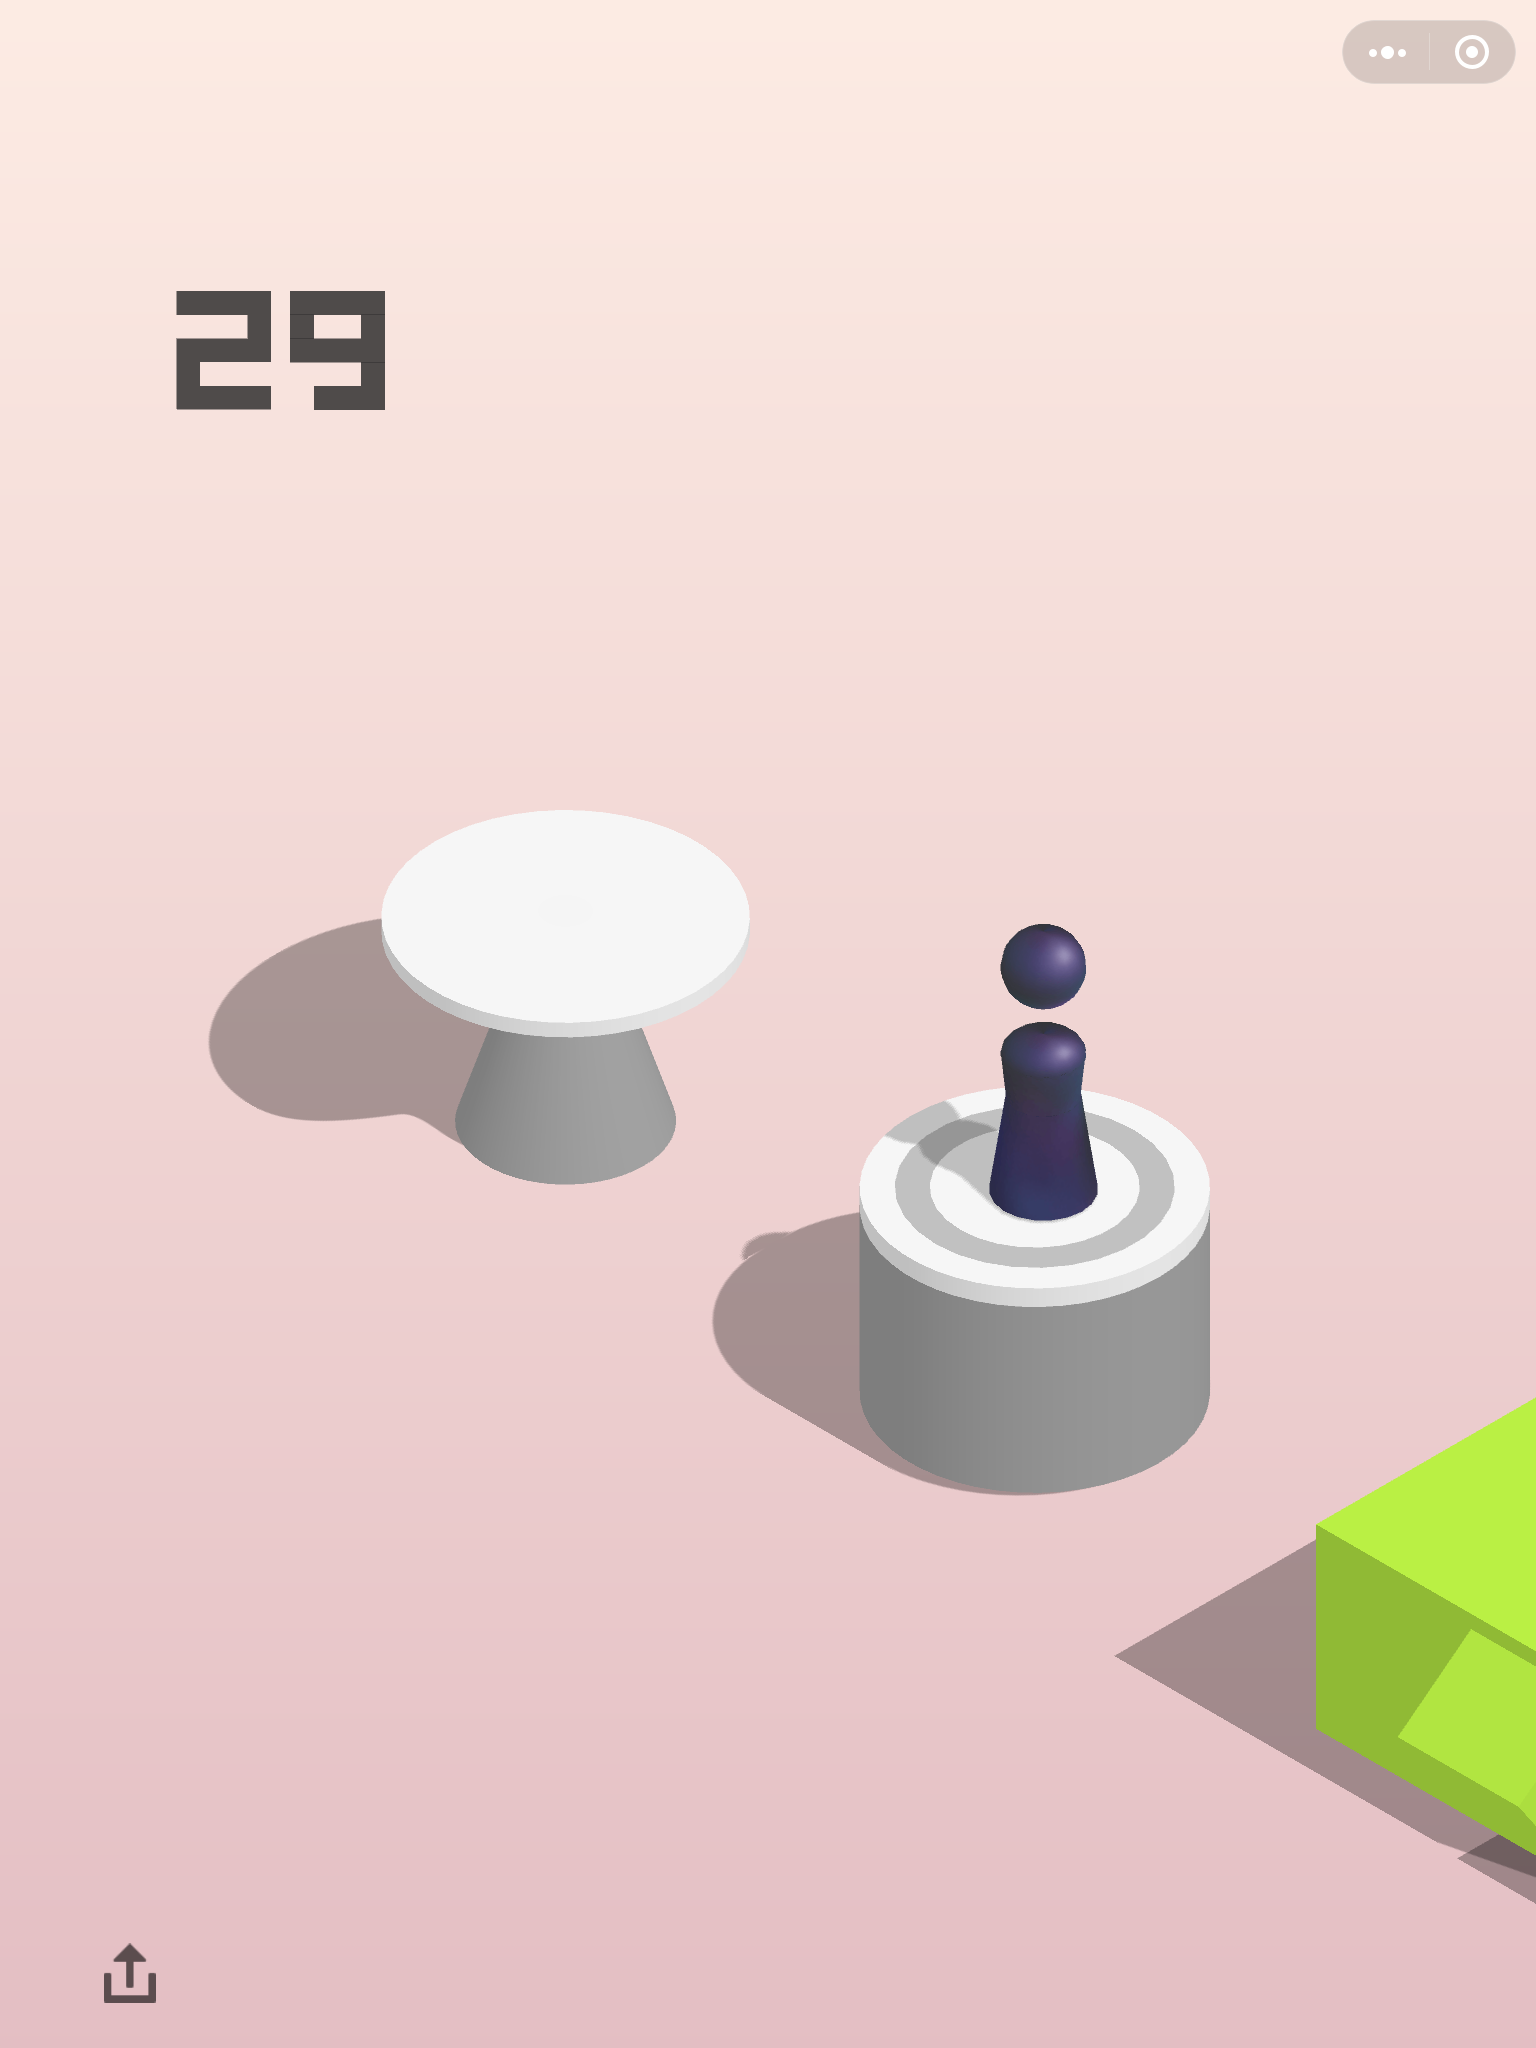c: (849, 1077, 1221, 1503), (374, 803, 762, 1195)
f: (1310, 1384, 1536, 1875)
r: (984, 918, 1102, 1224)
